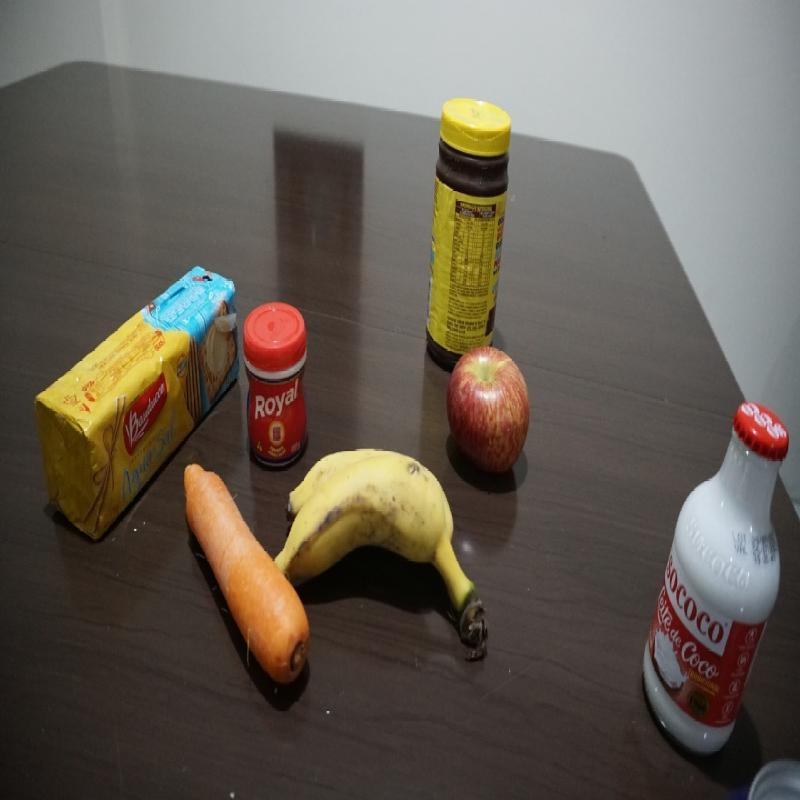Apple: (442, 347, 532, 452)
Banana: (294, 464, 480, 620)
Carrot: (177, 452, 274, 700)
Chocolate Powder: (425, 91, 512, 335)
Coconut Milk: (646, 397, 789, 756)
Cracker: (28, 263, 239, 450)
Yeast: (239, 301, 311, 463)
